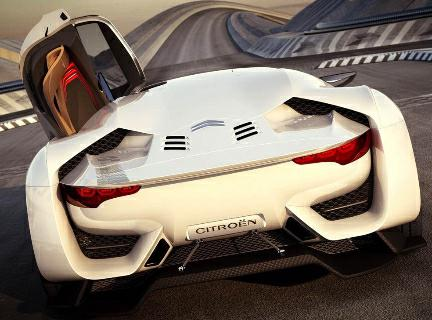雪铁龙-GT: (21, 65, 428, 287)
